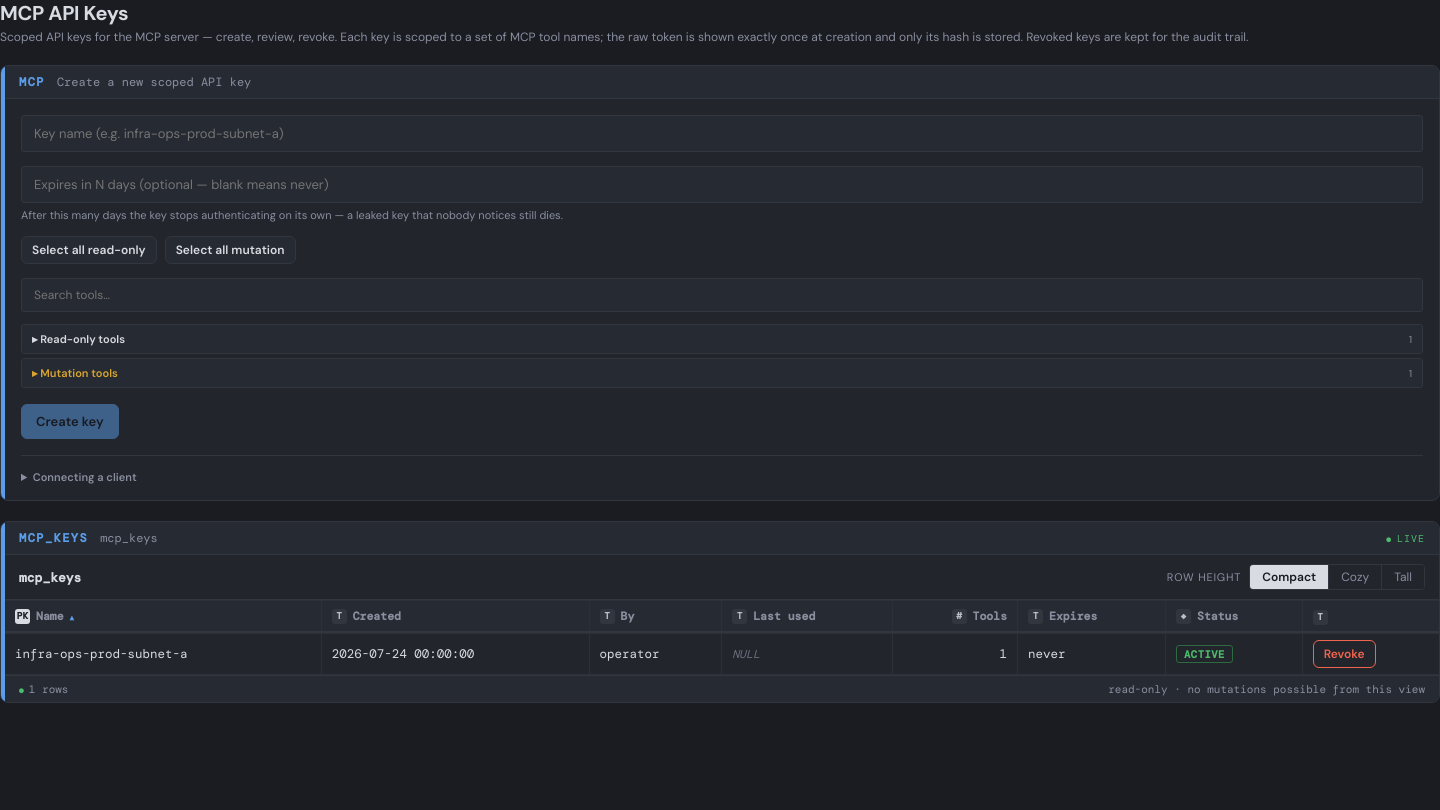
Scenario: McpKeys page error handling › clears a prior mutation error once a subsequent revoke succeeds
This screenshot has width=1440, height=810.
expect the text "infra-ops-prod-subnet-a" is shown: met, box [5, 634, 321, 674]
Click the button "Revoke" at (1344, 654), box [1313, 640, 1376, 668]
(page scrolled)
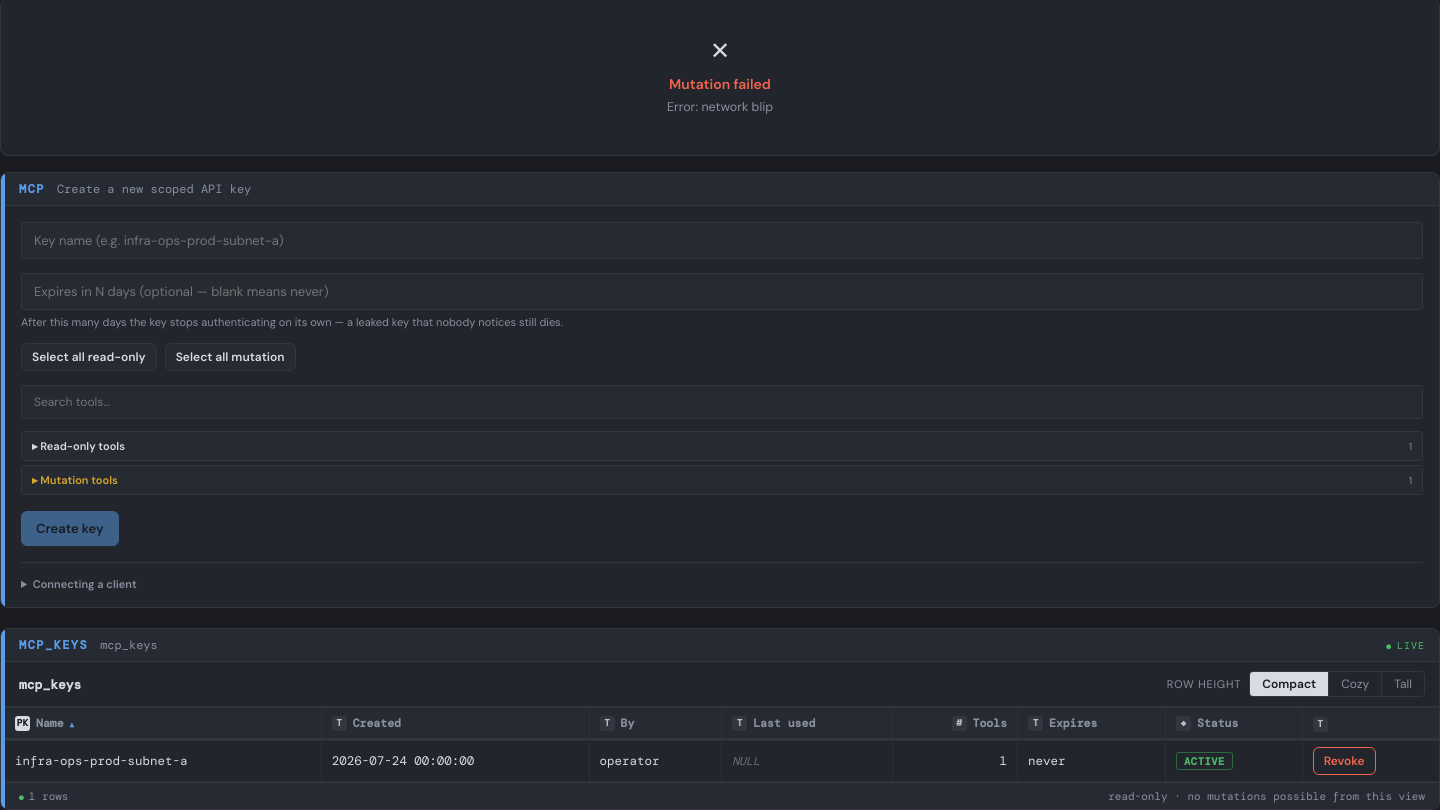
expect the text "Error: network blip" is shown: met, box [667, 99, 773, 115]
Click the button "Revoke" at (1344, 761), box [1313, 747, 1376, 775]
(page scrolled)
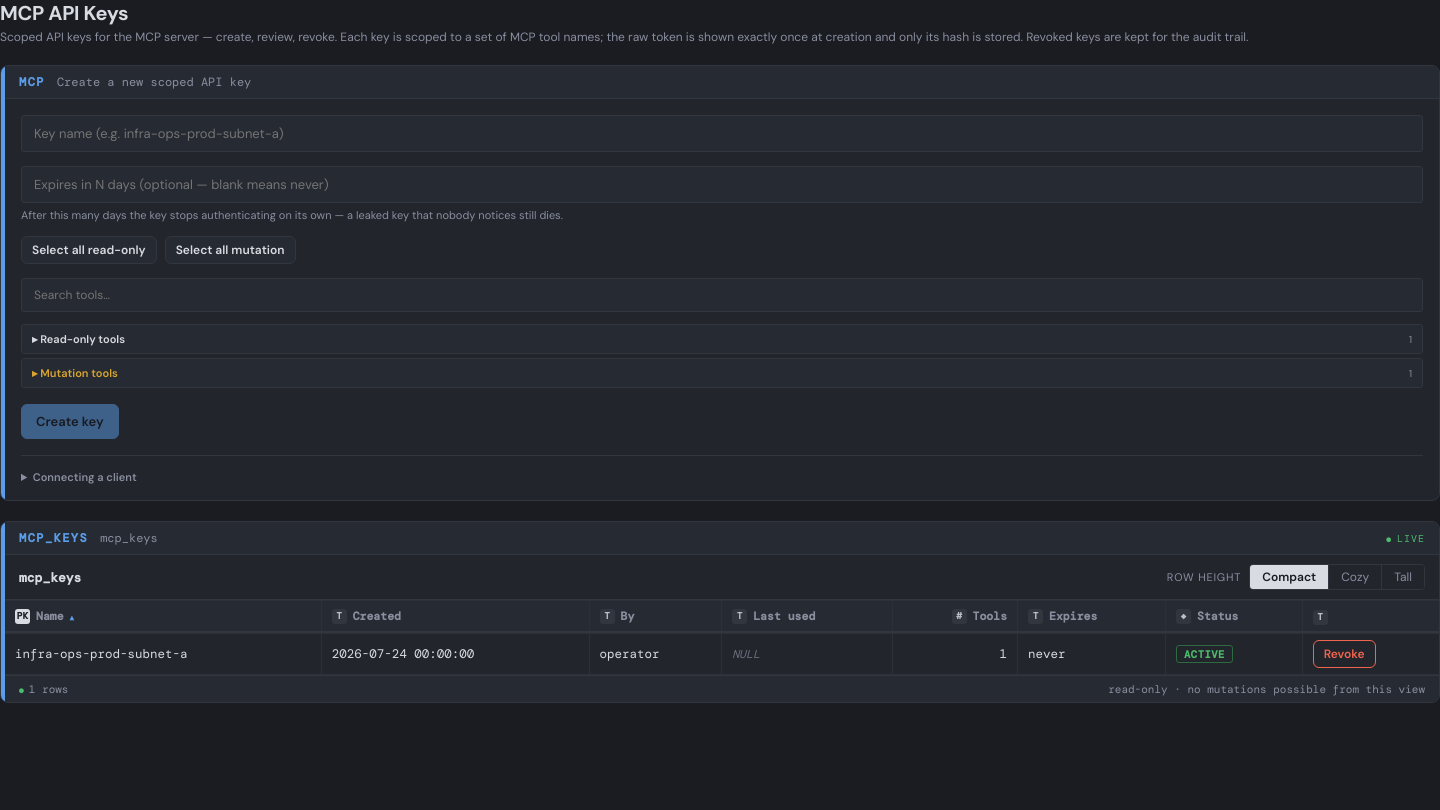
expect the text "infra-ops-prod-subnet-a" is shown: met, box [5, 634, 321, 674]
expect the text "network blip" is gone: met
